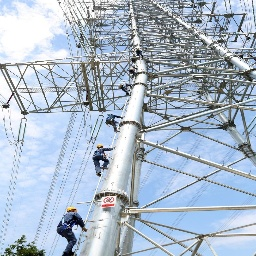helmet: (66, 207, 79, 213), (95, 144, 104, 149)
person: (55, 206, 89, 256), (91, 144, 116, 177), (105, 112, 120, 133)
